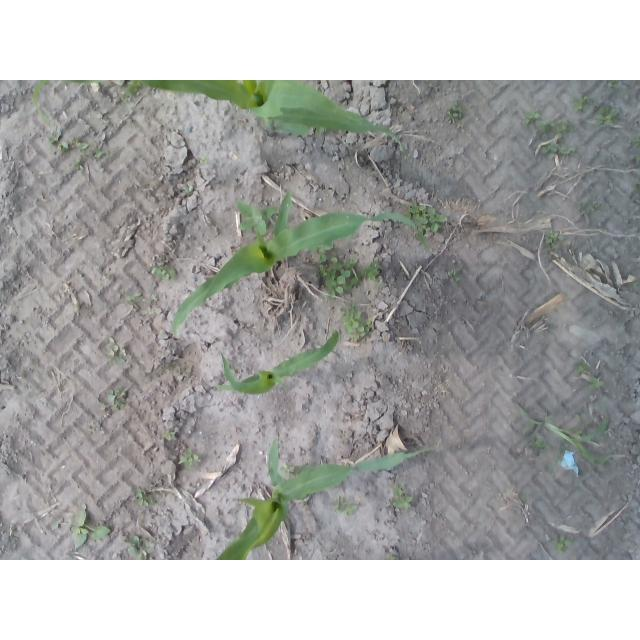Maize: (173, 191, 433, 337), (35, 80, 408, 157), (216, 433, 433, 560), (214, 331, 338, 395)
Weeds: (545, 413, 626, 464), (73, 504, 112, 548), (322, 256, 357, 299), (237, 201, 276, 235), (515, 403, 543, 434), (99, 387, 127, 411), (421, 208, 448, 230), (107, 339, 127, 366), (391, 485, 413, 508), (598, 106, 619, 127), (335, 496, 357, 516), (345, 308, 360, 333), (541, 143, 575, 154), (544, 233, 564, 251), (152, 266, 177, 280), (179, 448, 200, 464), (128, 537, 145, 556), (316, 246, 333, 263), (364, 262, 380, 280), (127, 82, 142, 101), (557, 535, 572, 554), (358, 319, 371, 338), (126, 291, 142, 306), (447, 103, 462, 119), (572, 96, 587, 112), (407, 203, 424, 217), (576, 198, 590, 214), (137, 490, 150, 507), (74, 139, 91, 150), (525, 112, 539, 124), (556, 121, 570, 133), (531, 439, 546, 450), (542, 122, 555, 134), (161, 430, 176, 440), (53, 519, 68, 529), (50, 131, 62, 143), (58, 141, 71, 152), (449, 270, 460, 282), (282, 464, 295, 474), (591, 378, 601, 390), (145, 308, 155, 317), (185, 186, 195, 195), (74, 160, 84, 169), (79, 148, 90, 156), (199, 156, 209, 164), (96, 150, 105, 158), (593, 202, 600, 210), (578, 365, 586, 372), (634, 138, 640, 147), (153, 295, 160, 302), (636, 185, 640, 192), (637, 158, 640, 167), (609, 81, 618, 84)
